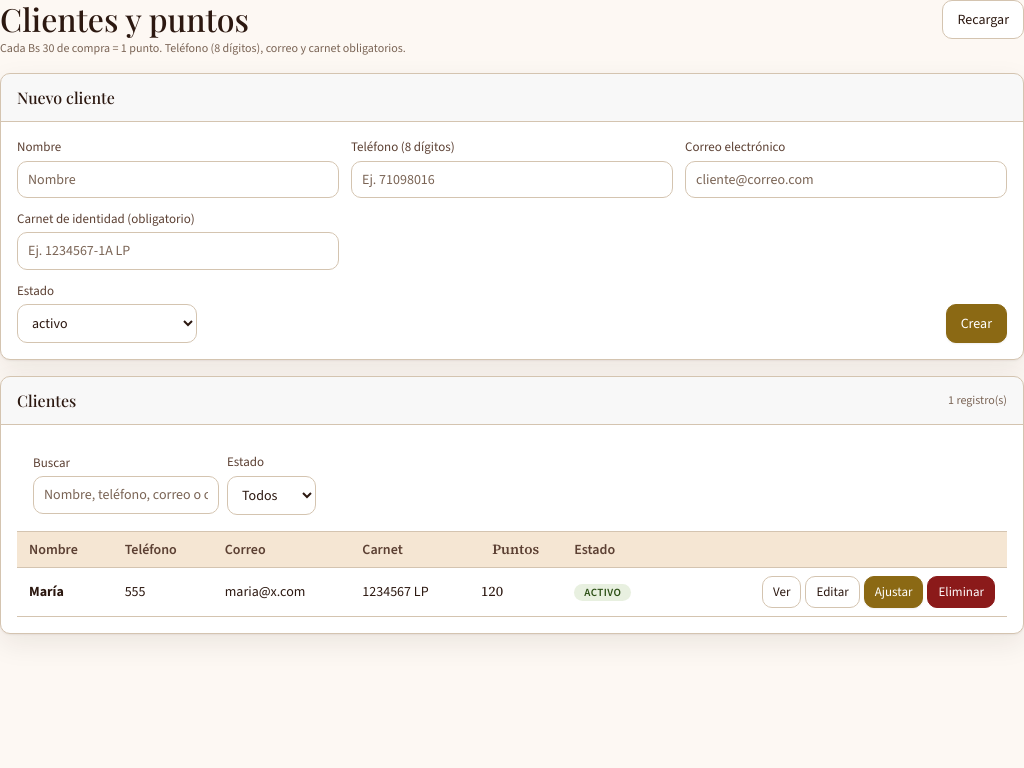
Test: ClientesPage › ver detalle muestra movimientos
Expected: the text "María" is shown, [29, 582, 64, 601]
Click the button "Ver".
click(782, 592)  # box [762, 576, 802, 608]
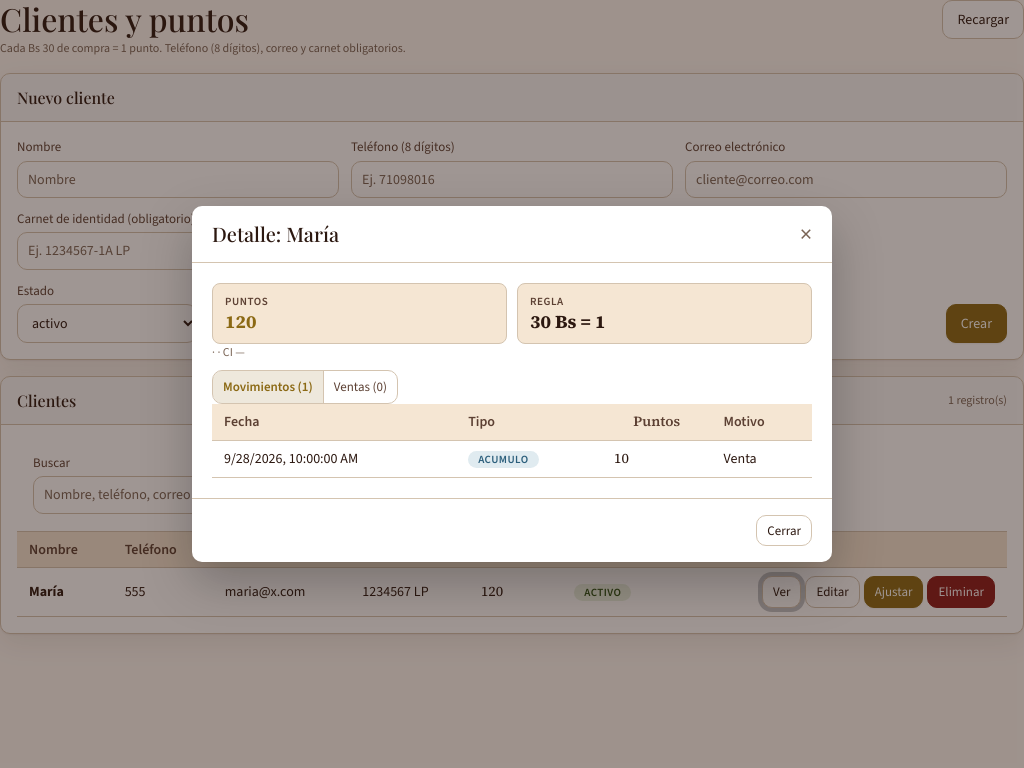
Expected: the text "acumulo" is shown, [468, 451, 539, 468]
